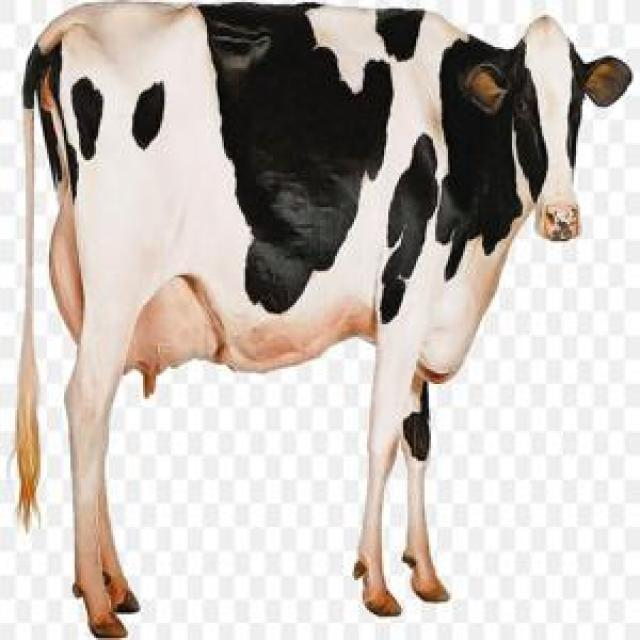cow: (16, 4, 631, 639)
